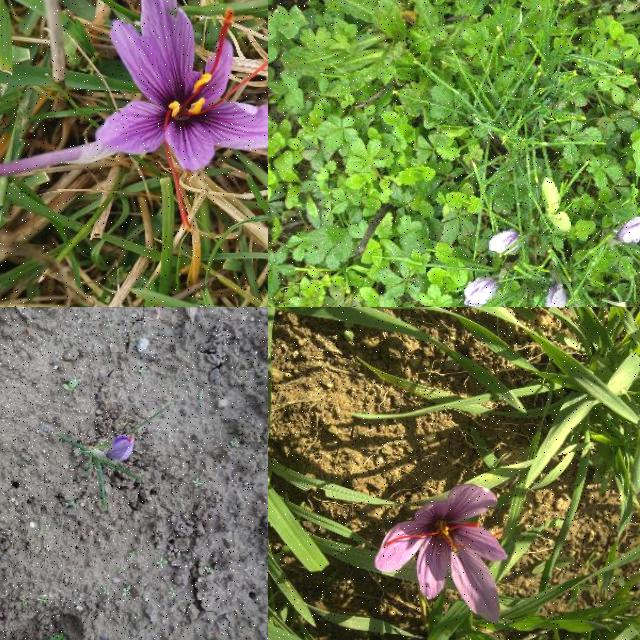flower: (96, 0, 268, 231), (374, 484, 508, 624), (464, 276, 500, 307), (102, 432, 136, 462), (489, 230, 523, 256), (615, 217, 640, 244)
overlap: (545, 285, 595, 307)
